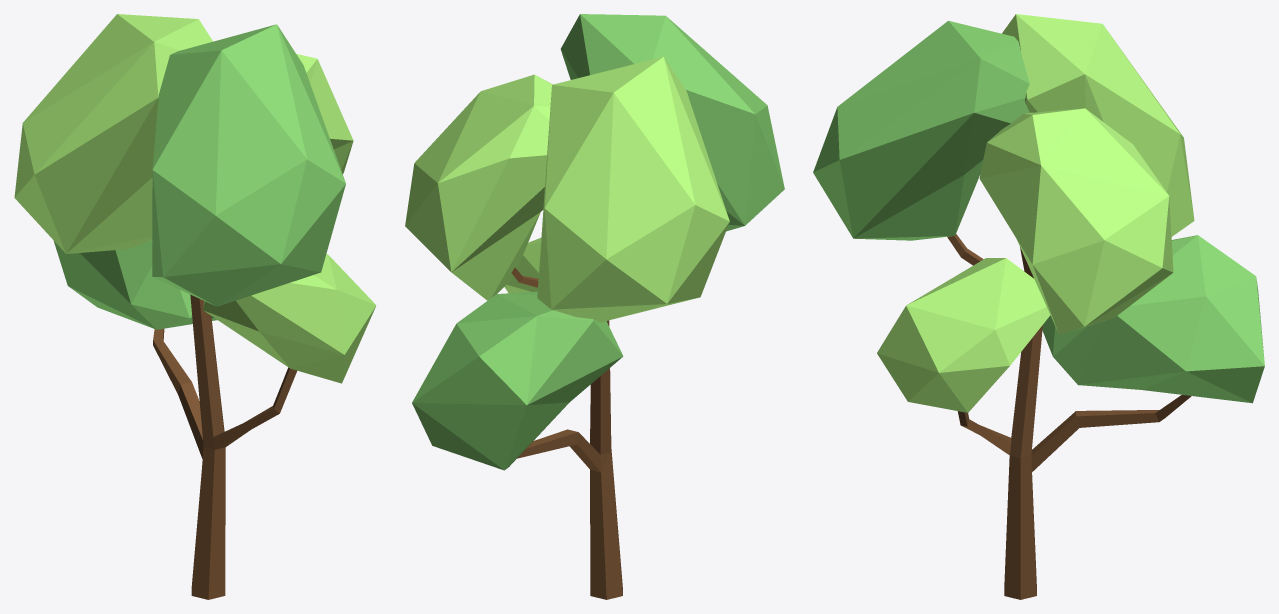
The model's file is Tree_Type4_3.fbx.
The picture shows the model from 3 angles, left to right: view 1: azimuth 30°, elevation 25°; view 2: azimuth 150°, elevation 25°; view 3: azimuth 270°, elevation 25°; orthographic projection. The views are drawn at different scales.
Parts seen in each view (by area): view 1: Tree_Type4_3; view 2: Tree_Type4_3; view 3: Tree_Type4_3.
Boxes of the visible parts, left/top/right/bottom form: Tree_Type4_3: left=14, top=14, right=376, bottom=599; Tree_Type4_3: left=405, top=14, right=784, bottom=599; Tree_Type4_3: left=813, top=14, right=1264, bottom=599.
Bounding box in the file's own units: 293 × 505 × 369.
